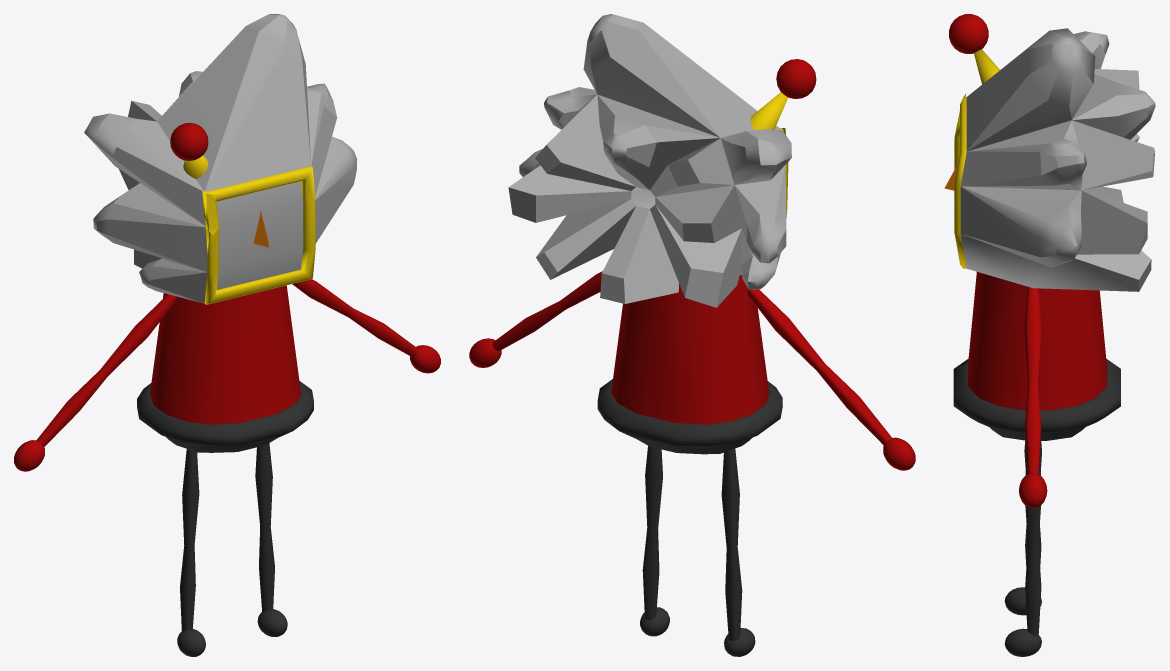
Rendered from M_TT_Chara_001.fbx.
The picture shows the model from 3 angles, left to right: view 1: azimuth 30°, elevation 25°; view 2: azimuth 150°, elevation 25°; view 3: azimuth 270°, elevation 25°; orthographic projection. The views are drawn at different scales.
Parts seen in each view (by area): view 1: CHARACTER_001; view 2: CHARACTER_001; view 3: CHARACTER_001.
Boxes of the visible parts, bbox=[...] form: CHARACTER_001: bbox=[14, 14, 440, 656]; CHARACTER_001: bbox=[469, 14, 915, 656]; CHARACTER_001: bbox=[944, 14, 1155, 656].
Bounding box in the file's own units: 70.99 × 96.05 × 29.18.
